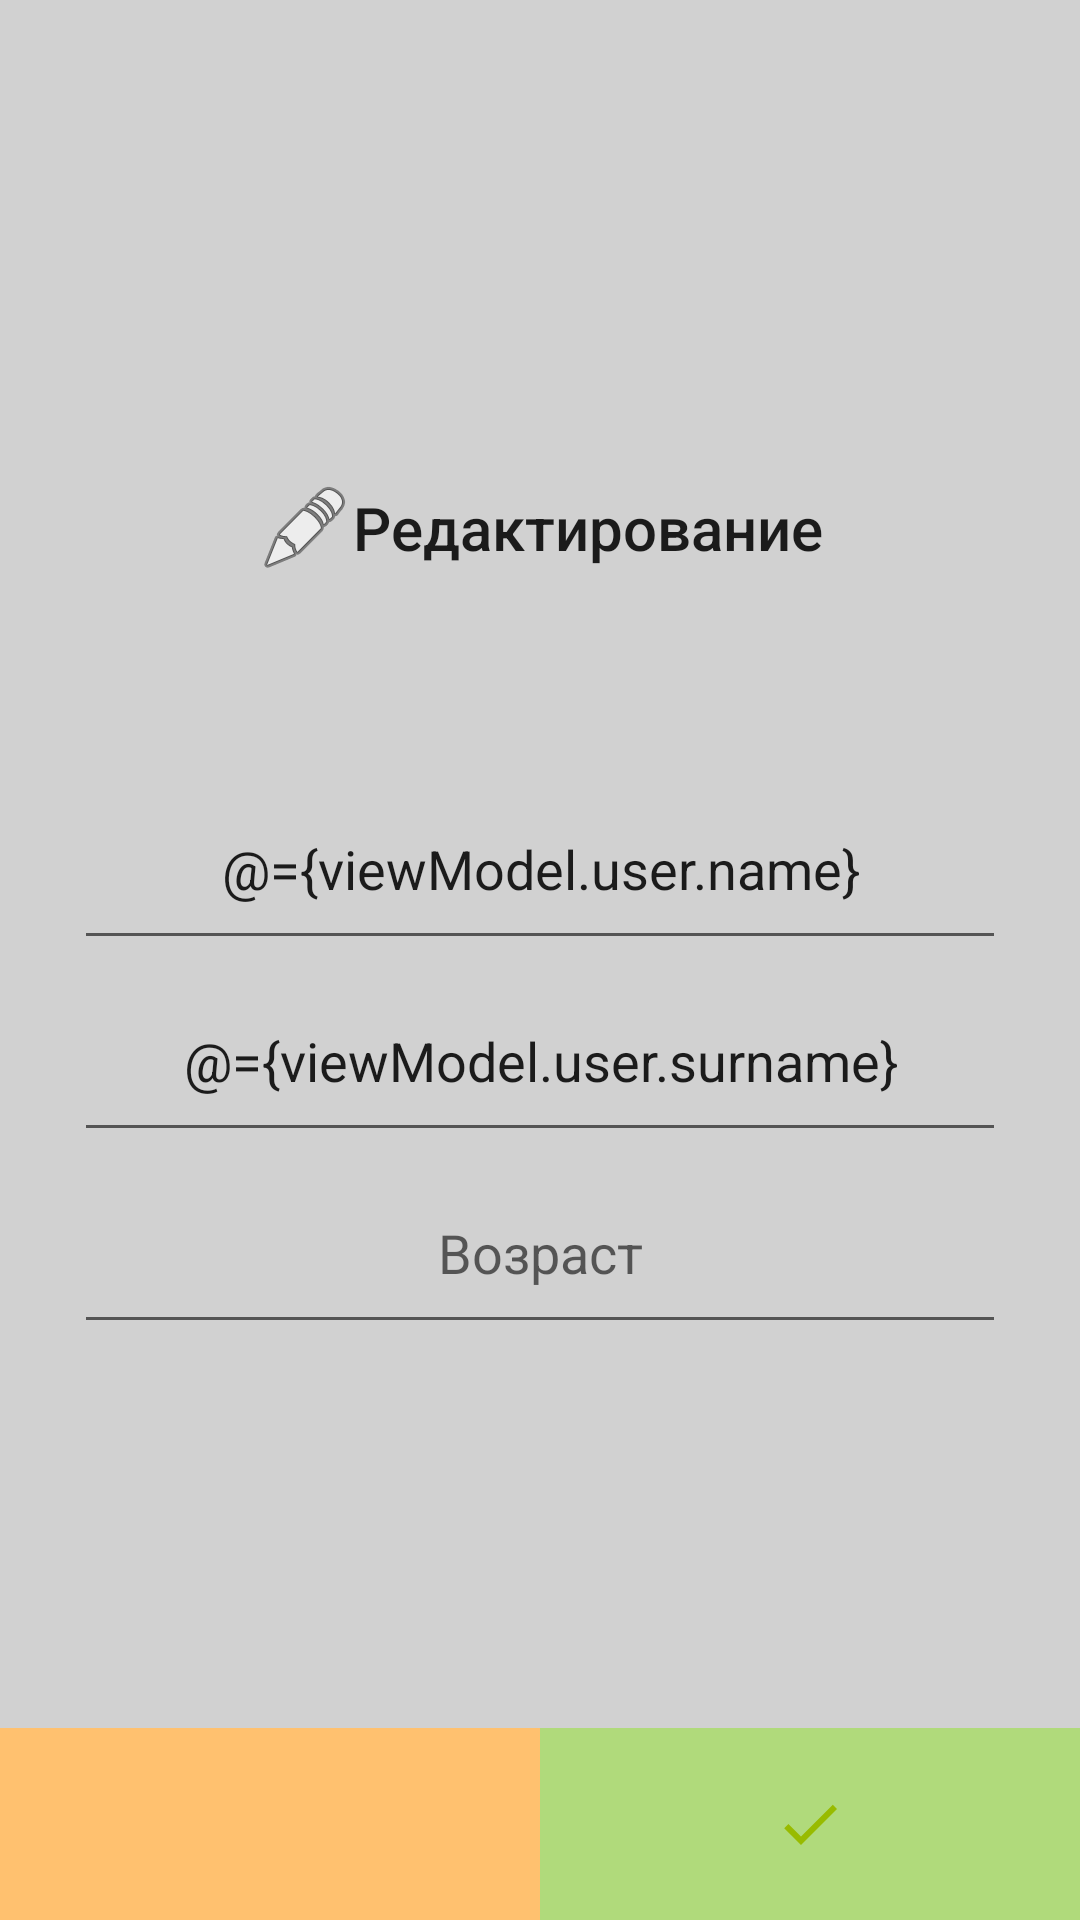

Screen size 1080 × 1920. Icon name, then its box in pixels as (x1, y1, x2, y2):
edit: (264, 487, 345, 568)
